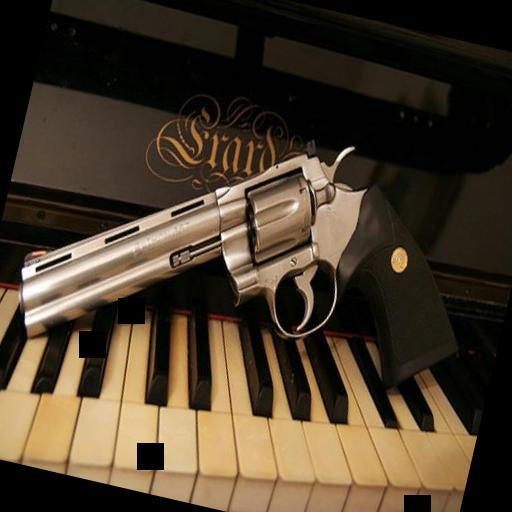Handgun: (4, 77, 498, 432)
